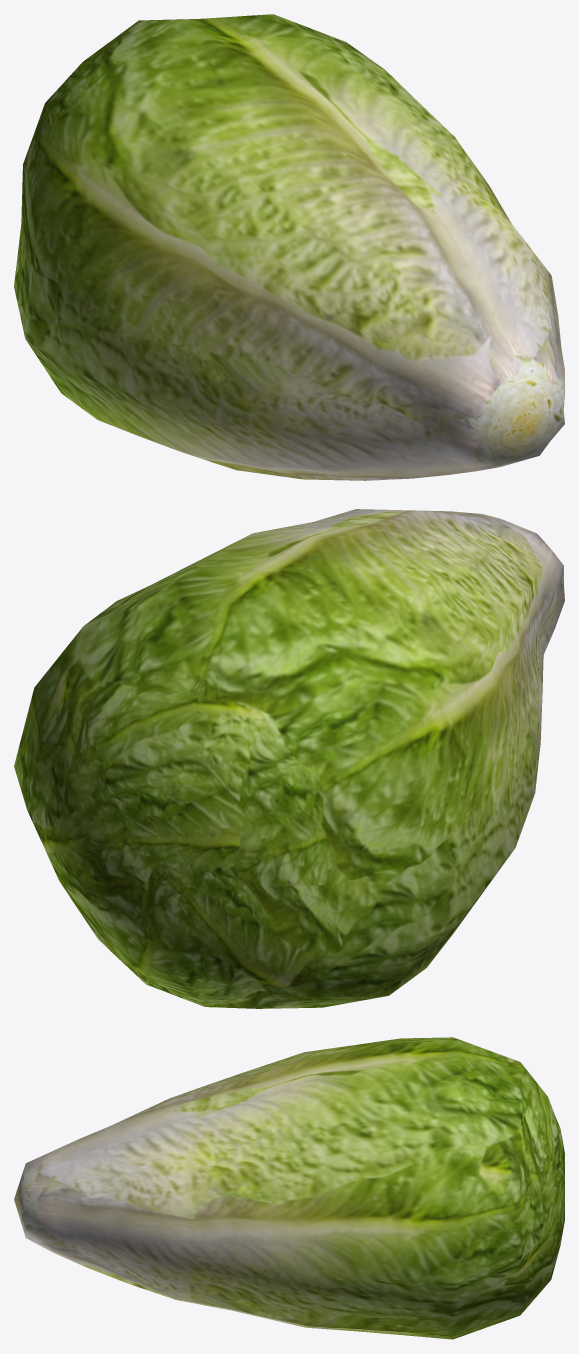
File: Lettuce_4.obj
The picture shows the model from 3 angles, top to bottom: view 1: azimuth 30°, elevation 25°; view 2: azimuth 150°, elevation 25°; view 3: azimuth 270°, elevation 25°; orthographic projection. The views are drawn at different scales.
Visible parts, largest first — view 1: lettuce_a4; view 2: lettuce_a4; view 3: lettuce_a4.
Part boxes in pixels (x1=…): lettuce_a4: x1=14, y1=14, x2=564, y2=480; lettuce_a4: x1=14, y1=509, x2=564, y2=1008; lettuce_a4: x1=14, y1=1037, x2=564, y2=1339.
Size of the model in its own units: 0.1495 by 0.137 by 0.244.
